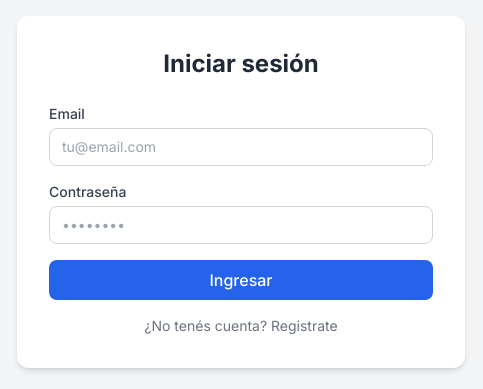
Login — interacción › muestra "Ingresando..." mientras espera la respuesta
This screenshot has width=483, height=389.
In the field with placeholder "tu@email.com": {"x": 241, "y": 147} [49,128,433,166], type "gian@test.com"
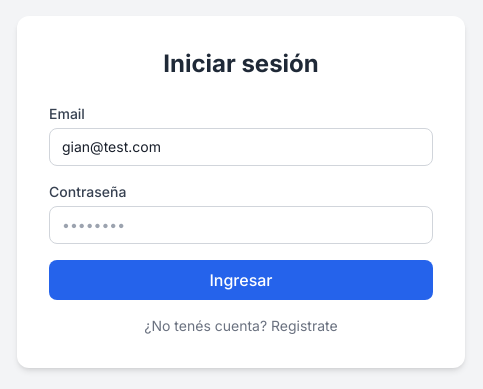
In the password field with placeholder "••••••••": {"x": 241, "y": 225} [49,206,433,244], type "123456"
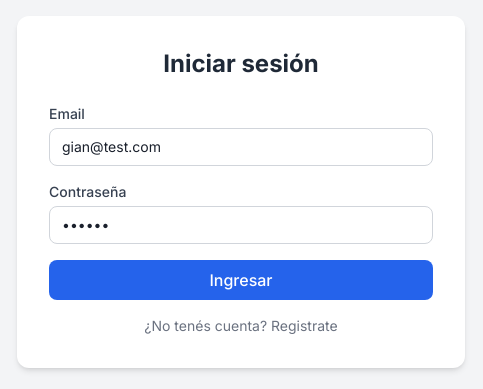
Click the button "Ingresar": {"x": 241, "y": 280} [49,260,433,300]
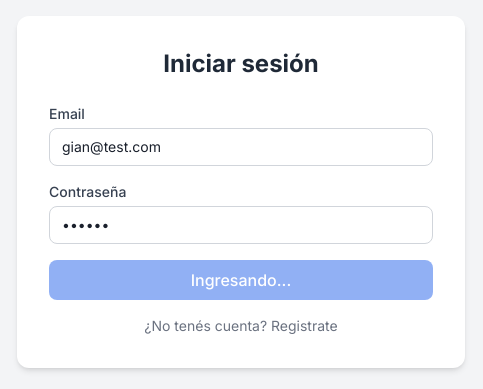
Expected: the button "Ingresando..." is shown, [49,260,433,300]
